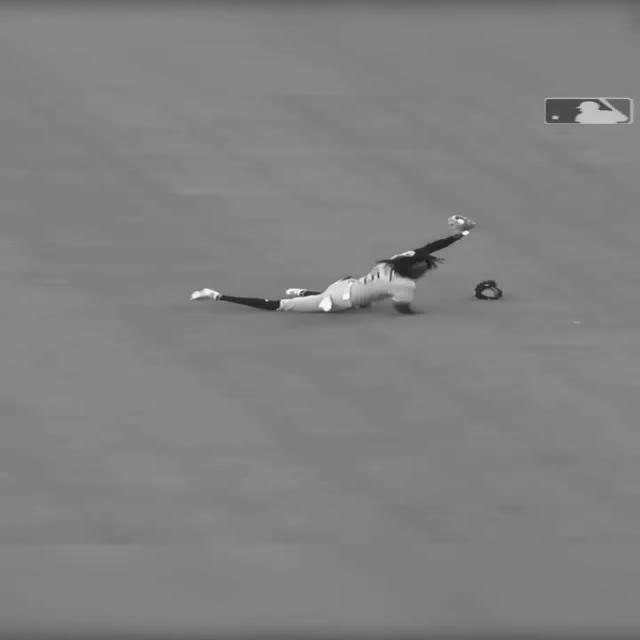baseball: (457, 219, 468, 226)
baseball_glove: (446, 214, 479, 233)
shoe: (188, 286, 229, 304), (279, 286, 312, 297)
